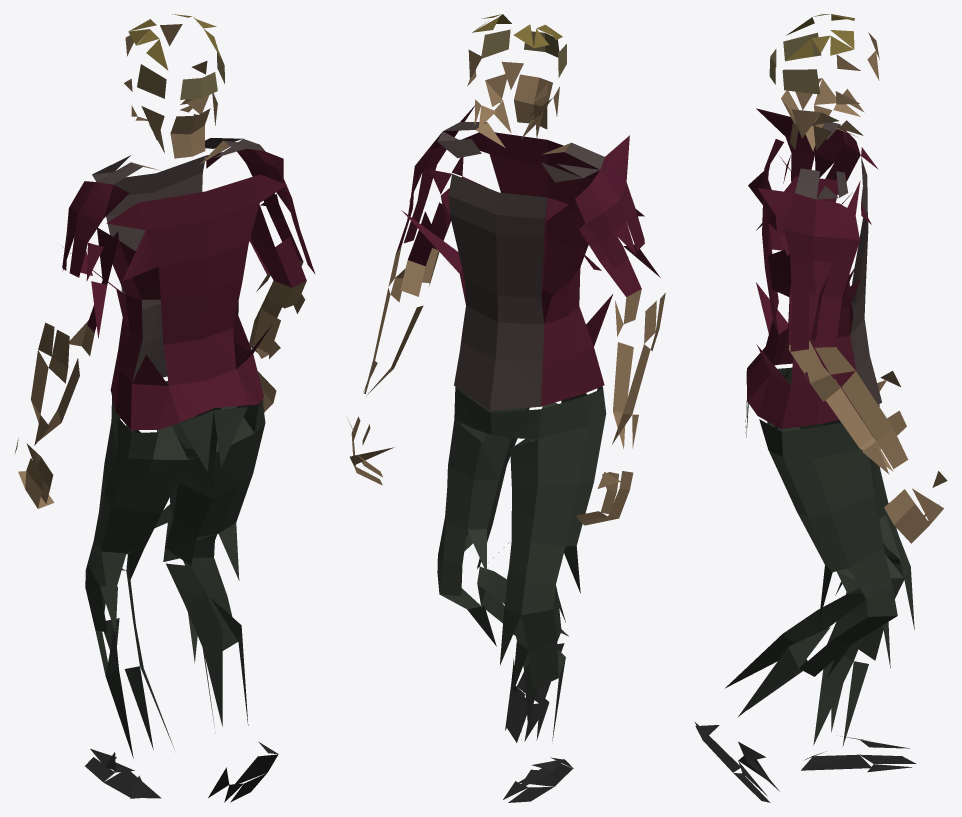
File: personfar_2_w2.fbx
3 views of the same model, side by side, from view 1: azimuth 30°, elevation 25°; view 2: azimuth 150°, elevation 25°; view 3: azimuth 270°, elevation 25° (orthographic). The views are drawn at different scales.
Parts seen in each view (by area): view 1: BaseHuman; view 2: BaseHuman; view 3: BaseHuman.
Part boxes in pixels (x1,y1,x2,y2): BaseHuman: (14, 14, 315, 802); BaseHuman: (348, 14, 665, 802); BaseHuman: (695, 14, 947, 802).
Size of the model in its own units: 0.3554 by 0.9789 by 0.293.
